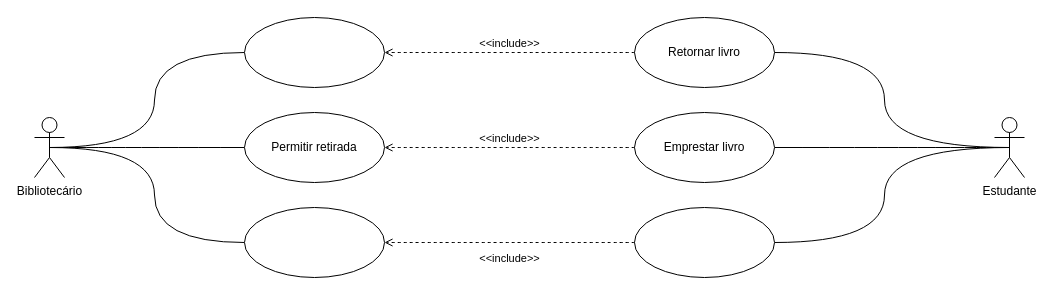
The diagram is 1054 pixels wide and 295 high, and some of its shapes have lost their labels. The centre of each missing label's shape, as x and y in pixels:
Confirmar reserva: point 314,242
Reservar livro: point 704,242
Validar retorno: point 314,52
